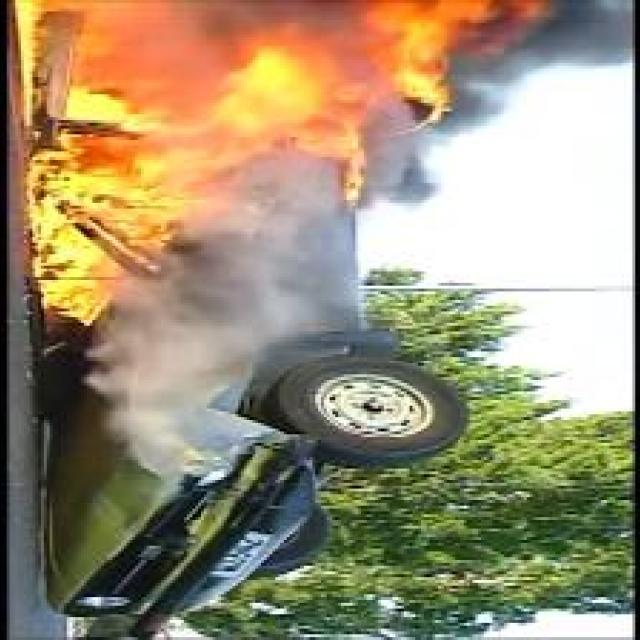Fire: (10, 1, 547, 328)
